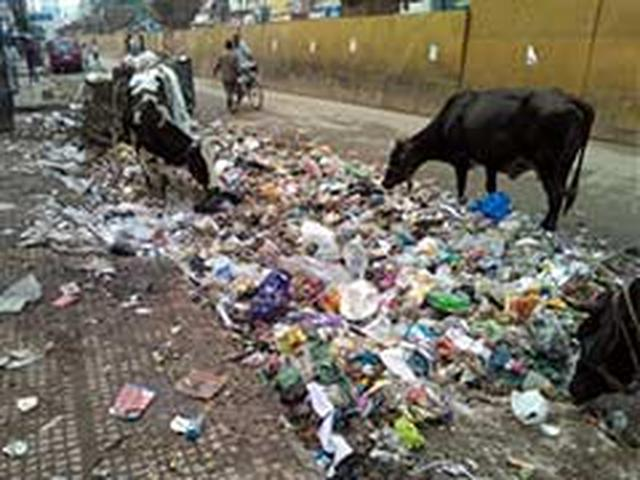garbage: (232, 165, 408, 445), (426, 224, 560, 370), (96, 205, 234, 266)
